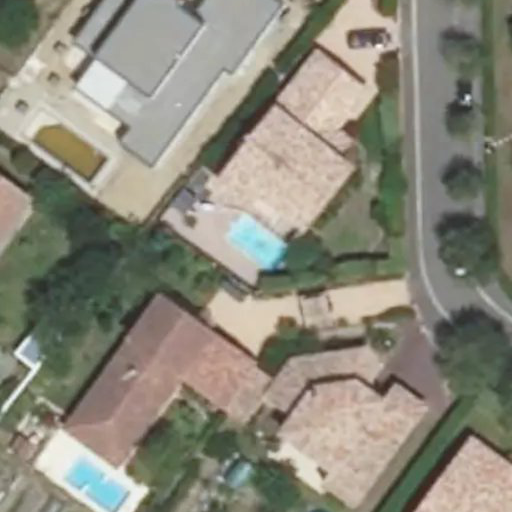pool: (225, 235, 286, 248)
